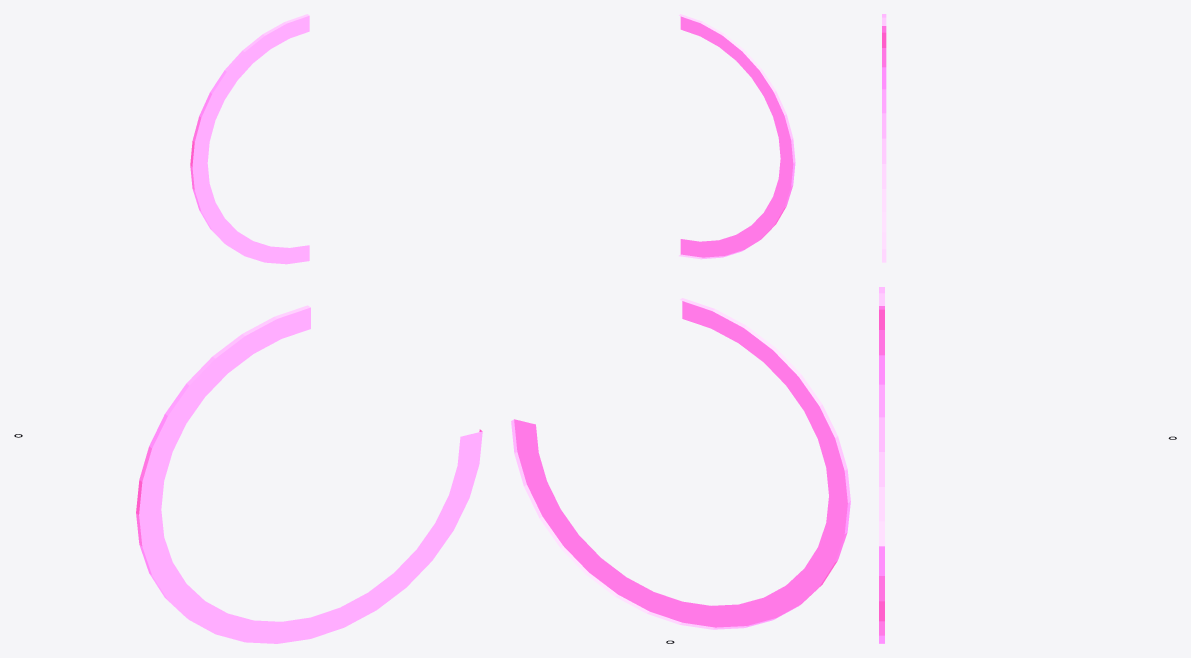
Rendered from pink_rings.glb.
3 renders of one model, left to right at view 1: azimuth 30°, elevation 25°; view 2: azimuth 150°, elevation 25°; view 3: azimuth 270°, elevation 25°, orthographic. The views are drawn at different scales.
Parts seen in each view (by area): view 1: Circle.004; view 2: Circle.004; view 3: Circle.004.
Boxes of the visible parts, box(x1,y1,x2,y2) form: Circle.004: box(136, 14, 482, 643); Circle.004: box(511, 14, 850, 629); Circle.004: box(879, 14, 886, 643).
Size of the model in its own units: 1.63 by 2.82 by 1.27.
